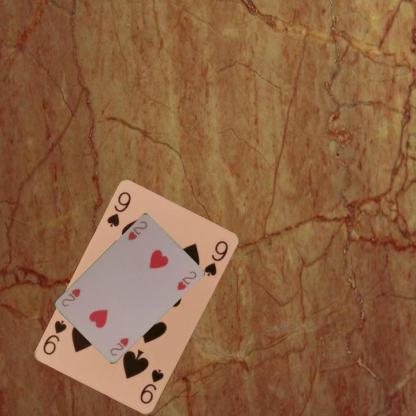2h: (107, 335, 130, 358), (126, 219, 148, 242)
9s: (104, 189, 133, 229), (137, 367, 165, 405)
